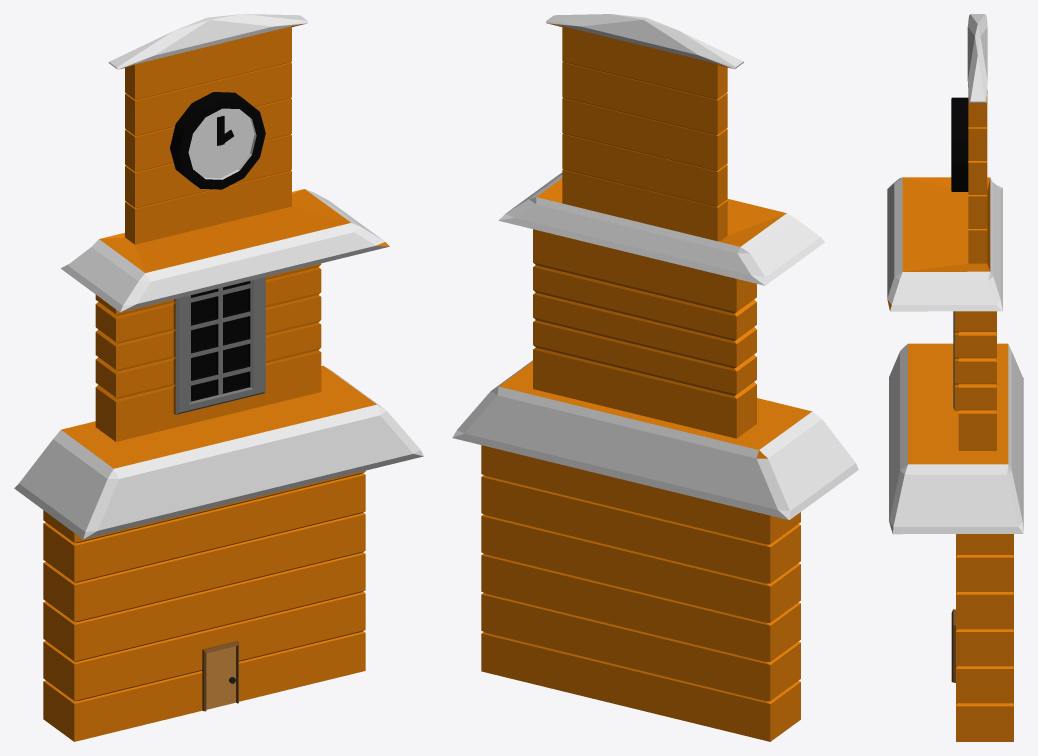
File: clock tower.fbx
3 views of the same model, side by side, from view 1: azimuth 30°, elevation 25°; view 2: azimuth 150°, elevation 25°; view 3: azimuth 270°, elevation 25° (orthographic). The views are drawn at different scales.
Parts seen in each view (by area): view 1: Cube.002; view 2: Cube.002; view 3: Cube.002.
Part boxes in pixels (left/top/right/bottom): Cube.002: left=14, top=14, right=423, bottom=741; Cube.002: left=452, top=14, right=858, bottom=741; Cube.002: left=887, top=14, right=1023, bottom=741.
Size of the model in its own units: 2546 by 4850 by 939.
